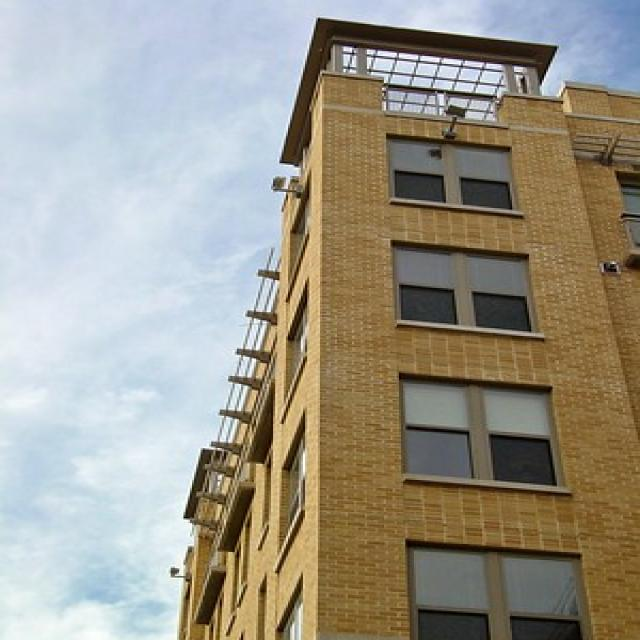Normal_building: (173, 11, 640, 640)
